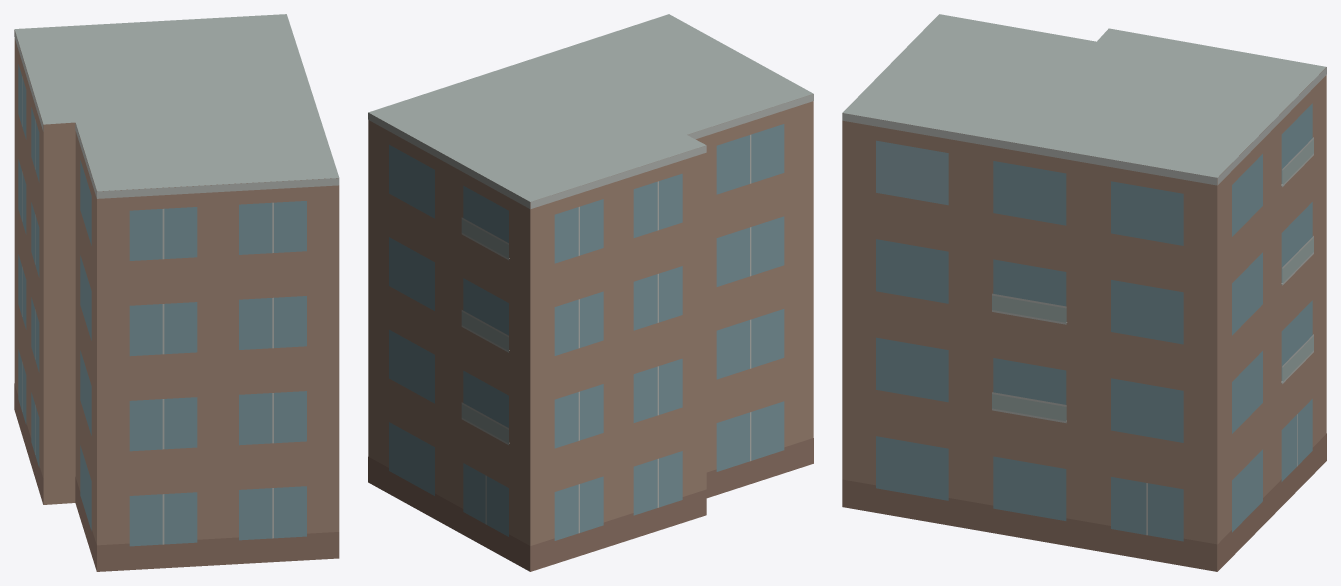
File: survey-upis-32527340.glb
The picture shows the model from 3 angles, left to right: view 1: azimuth 30°, elevation 25°; view 2: azimuth 150°, elevation 25°; view 3: azimuth 270°, elevation 25°; orthographic projection. The views are drawn at different scales.
Visible parts, largest first — view 1: survey-upis-32527340.tmp; view 2: survey-upis-32527340.tmp; view 3: survey-upis-32527340.tmp.
Boxes of the visible parts, x1,y1,x2,y2 form: survey-upis-32527340.tmp: (14, 14, 339, 571); survey-upis-32527340.tmp: (368, 14, 813, 571); survey-upis-32527340.tmp: (842, 14, 1326, 571).
Bounding box in the file's own units: 11.06 × 12.4 × 13.82.
